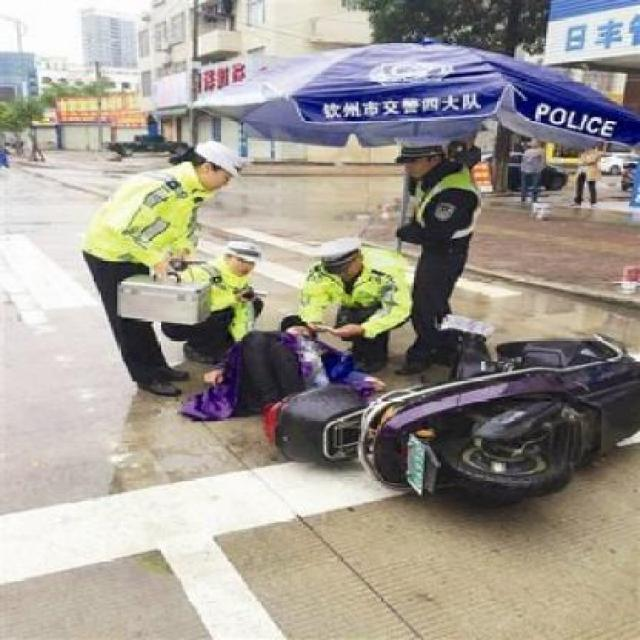fall: (176, 298, 389, 427)
